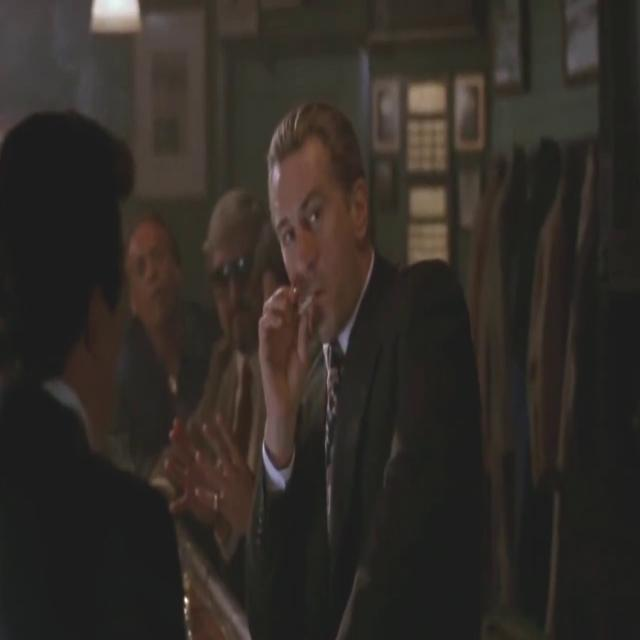Smooking: (290, 280, 320, 320)
